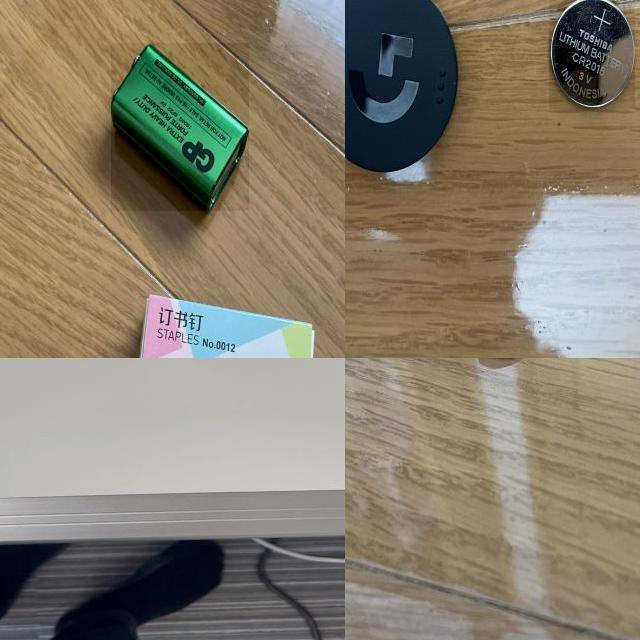9V: (111, 43, 250, 211)
